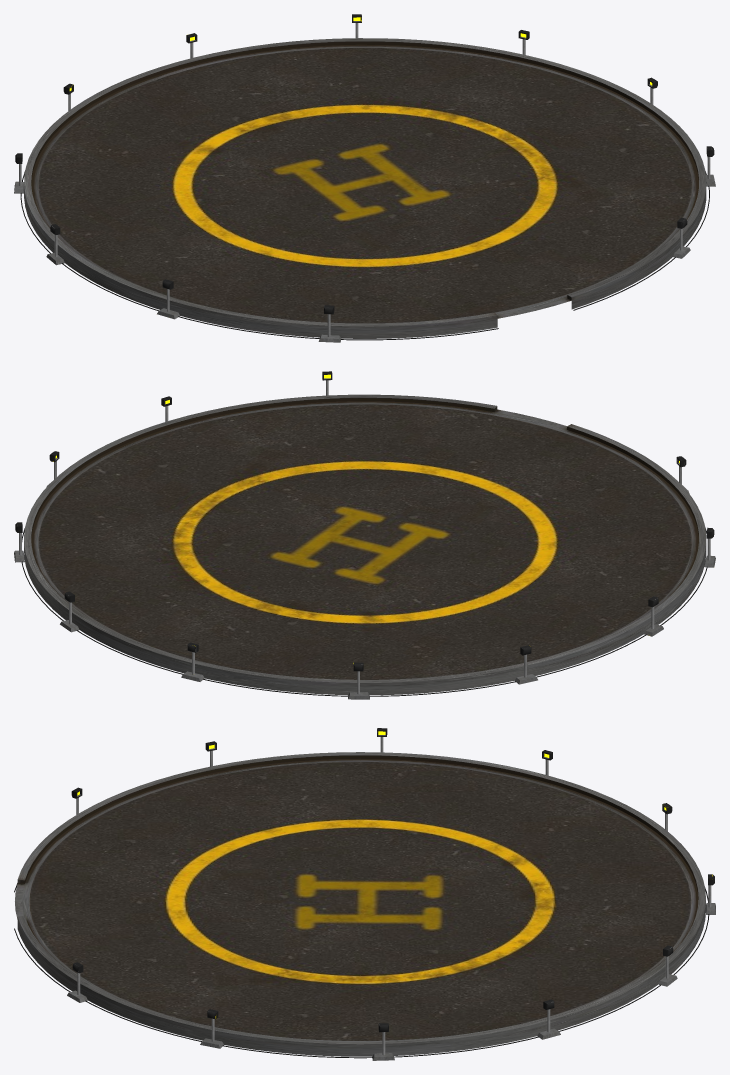
The model's file is re-heliport.glb.
The picture shows the model from 3 angles, top to bottom: view 1: azimuth 30°, elevation 25°; view 2: azimuth 150°, elevation 25°; view 3: azimuth 270°, elevation 25°; orthographic projection.
Visible parts, largest first — view 1: badan_1, lamp_1, sim_1; view 2: badan_1, lamp_1, sim_1; view 3: badan_1, lamp_1, sim_1.
Part boxes in pixels (left/top/right/bottom): badan_1: left=24, top=38, right=706, bottom=338; lamp_1: left=14, top=14, right=715, bottom=342; sim_1: left=20, top=170, right=709, bottom=340; badan_1: left=24, top=394, right=706, bottom=695; lamp_1: left=14, top=371, right=715, bottom=699; sim_1: left=21, top=527, right=707, bottom=696; badan_1: left=15, top=752, right=705, bottom=1056; lamp_1: left=67, top=728, right=715, bottom=1060; sim_1: left=14, top=883, right=709, bottom=1058.
Bounding box in the file's own units: 1440 × 76.05 × 1422.
Materials: 3 (2 with a texture image).
